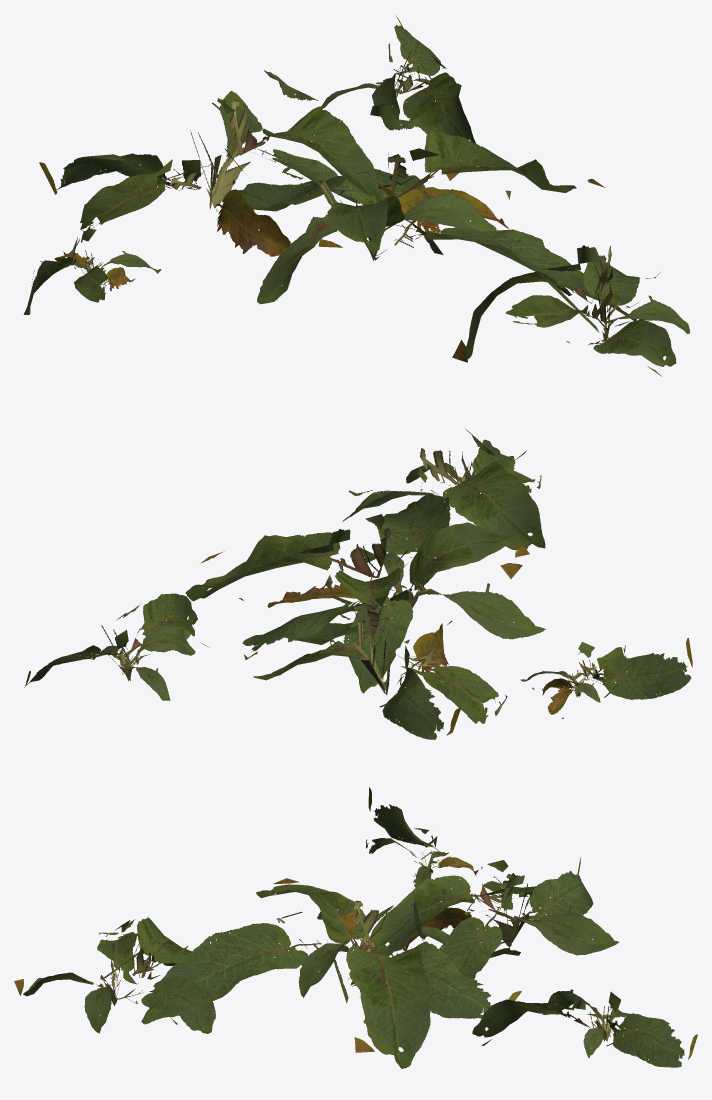
File: weed_a.glb
3 renders of one model, top to bottom at view 1: azimuth 30°, elevation 25°; view 2: azimuth 150°, elevation 25°; view 3: azimuth 270°, elevation 25°, orthographic. The views are drawn at different scales.
Visible parts, largest first — view 1: weed_a; view 2: weed_a; view 3: weed_a.
Part boxes in pixels (x1=…): weed_a: x1=23, y1=14, x2=690, y2=376; weed_a: x1=24, y1=429, x2=692, y2=739; weed_a: x1=14, y1=787, x2=697, y2=1068.
Bounding box in the file's own units: 0.4253 × 0.1342 × 0.5069.
2 materials, 2 textured.
